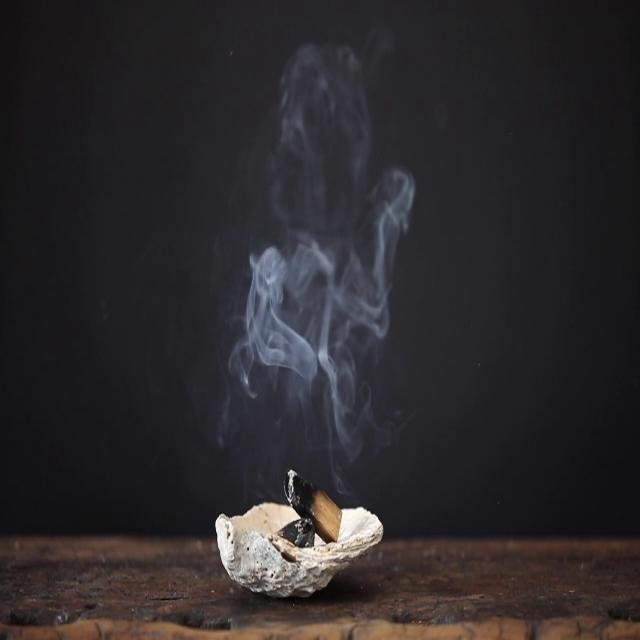Smoke: (233, 42, 408, 436)
